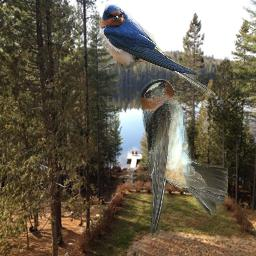Swallow: (139, 79, 228, 239), (98, 4, 216, 98)
